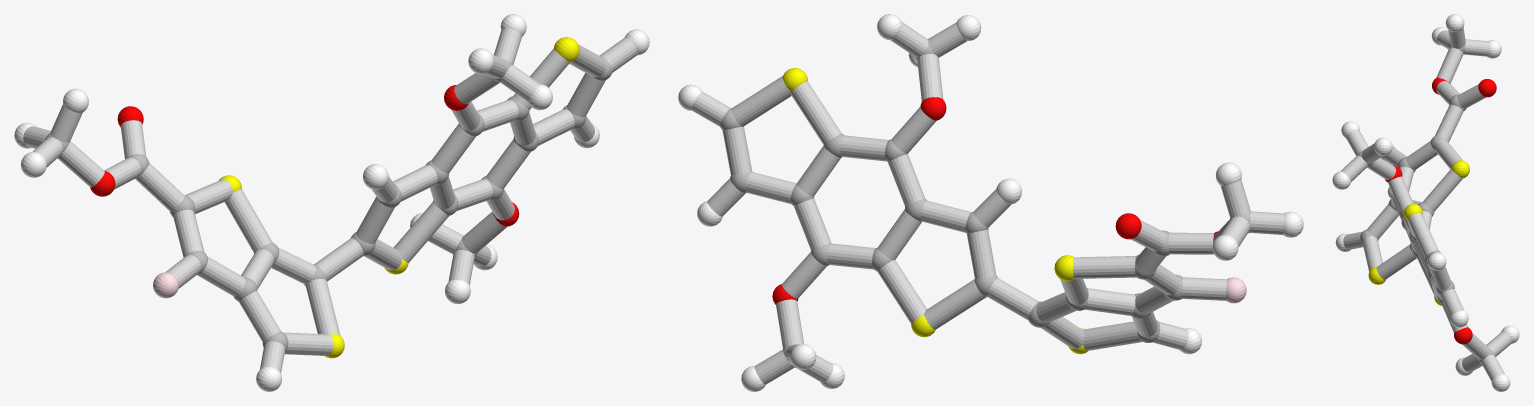
File: Dimethoxy_Benzodithiophene_Phi_30_Theta_240_Methylcarbonyl_3_Fluoro_Thienothiophene.glb
3 views of the same model, side by side, from view 1: azimuth 30°, elevation 25°; view 2: azimuth 150°, elevation 25°; view 3: azimuth 270°, elevation 25° (orthographic). The views are drawn at different scales.
Parts seen in each view (by area): view 1: grp15205, grp8689, grp1, grp13395, grp7241, grp14843; view 2: grp15205, grp8689, grp1, grp13395, grp7241; view 3: grp15205, grp8689, grp1, grp13395, grp7241.
Part boxes in pixels (<box>): grp15205: <box>23,28,637,373</box>; grp8689: <box>14,14,649,391</box>; grp1: <box>45,55,612,351</box>; grp13395: <box>90,85,519,226</box>; grp7241: <box>218,37,579,358</box>; grp14843: <box>153,272,178,298</box>; grp15205: <box>691,22,1284,384</box>; grp8689: <box>678,14,1303,391</box>; grp1: <box>720,43,1250,367</box>; grp13395: <box>772,97,1217,304</box>; grp7241: <box>782,68,1087,354</box>; grp15205: <box>1340,27,1511,381</box>; grp8689: <box>1332,14,1519,391</box>; grp1: <box>1357,43,1494,362</box>; grp13395: <box>1385,77,1496,344</box>; grp7241: <box>1368,160,1469,305</box>.
Size of the model in its own units: 16.52 by 8.36 by 6.
